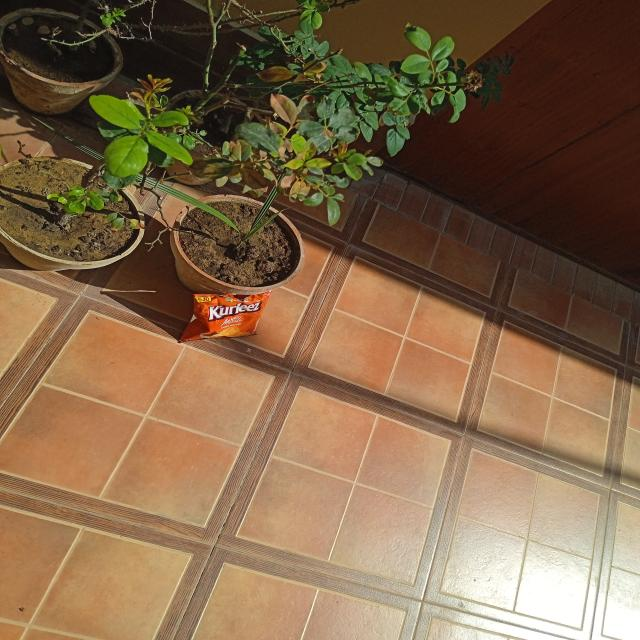Plastic: (182, 288, 273, 344)
